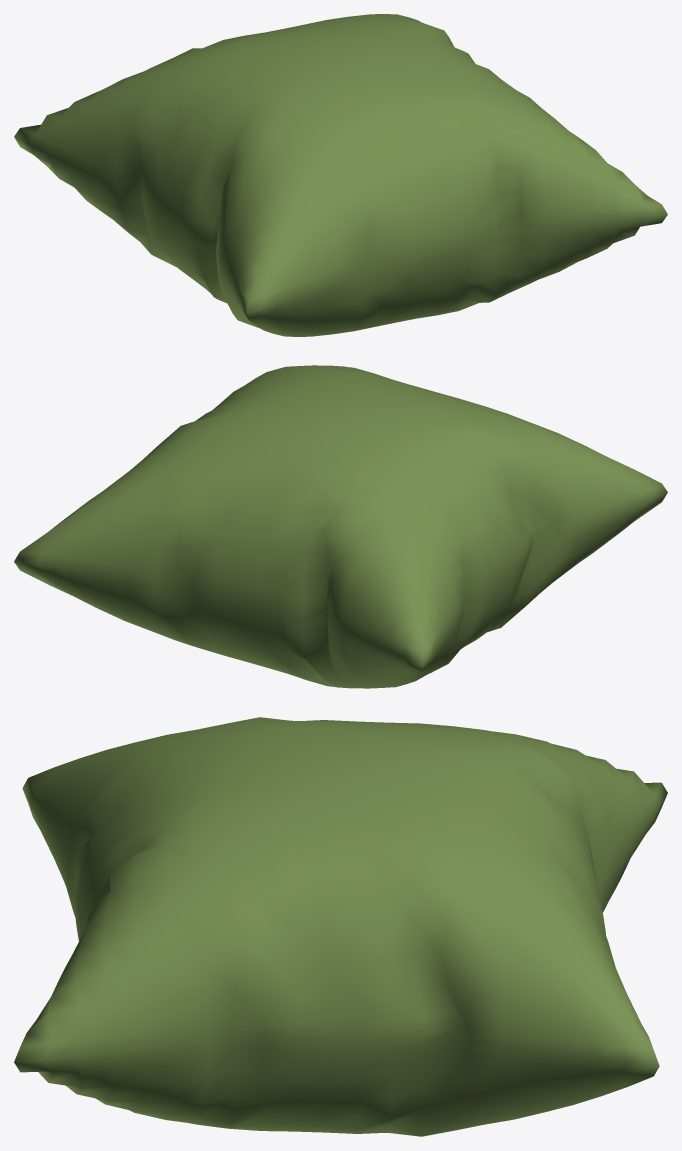
The model's file is KissenGrün.fbx.
3 views of the same model, one above another, from view 1: azimuth 30°, elevation 25°; view 2: azimuth 150°, elevation 25°; view 3: azimuth 270°, elevation 25° (orthographic). The views are drawn at different scales.
Parts seen in each view (by area): view 1: Plane; view 2: Plane; view 3: Plane.
Part boxes in pixels (x1,y1,x2,y2): Plane: (14,14,667,336); Plane: (14,365,667,688); Plane: (14,717,667,1136).
Size of the model in its own units: 194 by 104 by 193.
1 material, 1 textured.
